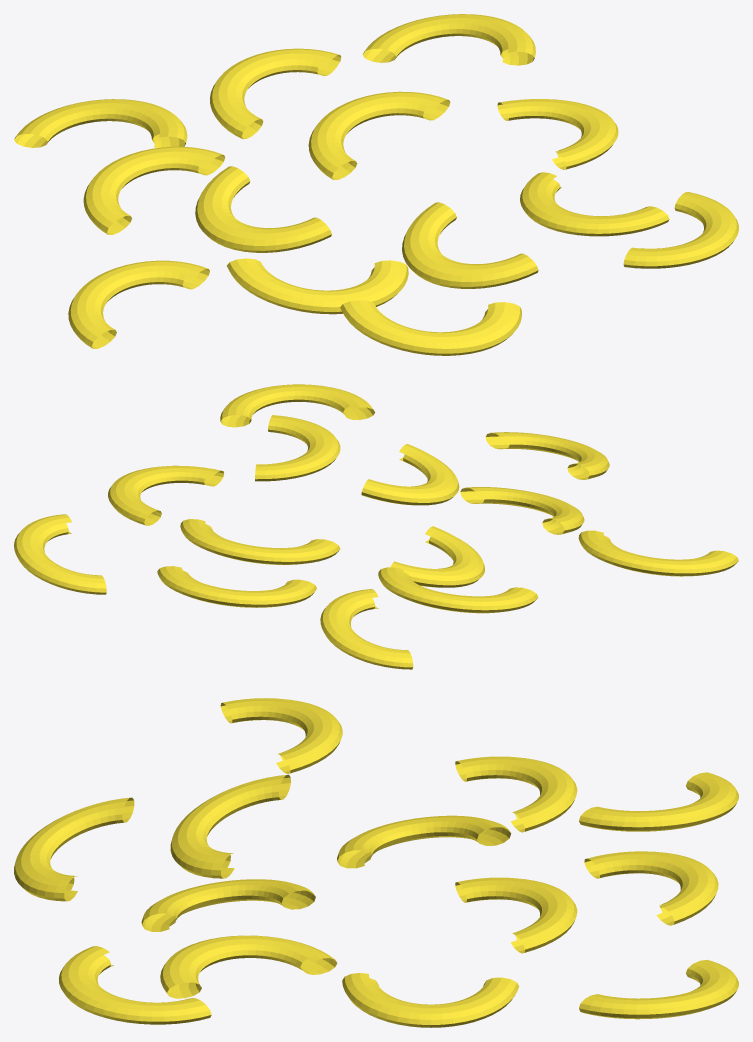
The model's file is pizzakaas.gltf.
The picture shows the model from 3 angles, top to bottom: view 1: azimuth 30°, elevation 25°; view 2: azimuth 150°, elevation 25°; view 3: azimuth 270°, elevation 25°; orthographic projection. The views are drawn at different scales.
Parts seen in each view (by area): view 1: Torus.001, Torus.009, Torus.006, Torus.014, Torus.008, Torus.007, Torus, Torus.004, Torus.003, Torus.011, Torus.005, Torus.002 (+1 smaller); view 2: Torus.002, Torus.011, Torus.003, Torus.010, Torus.007, Torus.008, Torus, Torus.004, Torus.005, Torus.006, Torus.009, Torus.001 (+1 smaller); view 3: Torus.005, Torus.010, Torus.001, Torus.014, Torus.002, Torus.004, Torus, Torus.008, Torus.007, Torus.011, Torus.003, Torus.009 (+1 smaller).
Boxes of the visible parts, bbox=[...] form: Torus.001: bbox=[340, 300, 521, 355]; Torus.009: bbox=[195, 166, 331, 252]; Torus.006: bbox=[402, 202, 538, 288]; Torus.014: bbox=[227, 258, 408, 314]; Torus.008: bbox=[83, 146, 225, 234]; Torus.007: bbox=[68, 260, 209, 348]; Torus: bbox=[308, 91, 450, 179]; Torus.004: bbox=[210, 48, 341, 139]; Torus.003: bbox=[362, 14, 535, 65]; Torus.011: bbox=[14, 99, 187, 148]; Torus.005: bbox=[520, 172, 669, 236]; Torus.002: bbox=[623, 192, 738, 268]; Torus.002: bbox=[220, 384, 375, 427]; Torus.011: bbox=[320, 589, 413, 669]; Torus.003: bbox=[14, 514, 106, 594]; Torus.010: bbox=[108, 465, 224, 525]; Torus.007: bbox=[578, 530, 738, 576]; Torus.008: bbox=[378, 567, 538, 613]; Torus: bbox=[180, 519, 340, 564]; Torus.004: bbox=[157, 566, 316, 607]; Torus.005: bbox=[255, 415, 340, 481]; Torus.006: bbox=[361, 444, 459, 505]; Torus.009: bbox=[390, 526, 484, 587]; Torus.001: bbox=[485, 432, 609, 479]; Torus.005: bbox=[160, 935, 337, 998]; Torus.010: bbox=[342, 973, 519, 1027]; Torus.001: bbox=[14, 797, 134, 901]; Torus.014: bbox=[170, 774, 290, 878]; Torus.002: bbox=[59, 946, 211, 1024]; Torus.004: bbox=[584, 851, 718, 925]; Torus: bbox=[455, 877, 577, 953]; Torus.008: bbox=[455, 756, 577, 832]; Torus.007: bbox=[220, 698, 342, 774]; Torus.011: bbox=[579, 772, 738, 831]; Torus.003: bbox=[579, 959, 738, 1019]; Torus.009: bbox=[337, 815, 511, 868].
Bounding box in the file's own units: 0.5338 × 0.0388 × 0.4865.
